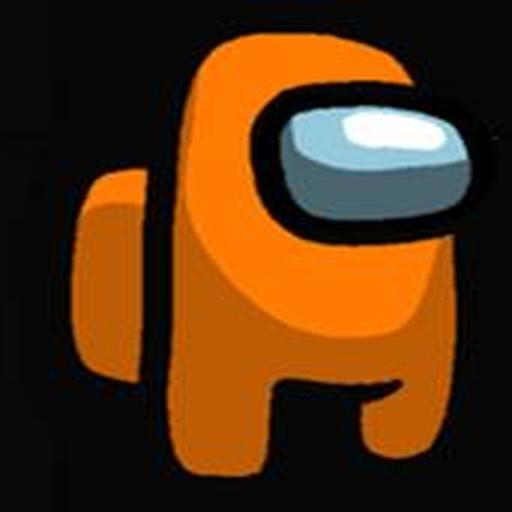Crewmate: (61, 26, 490, 475)
